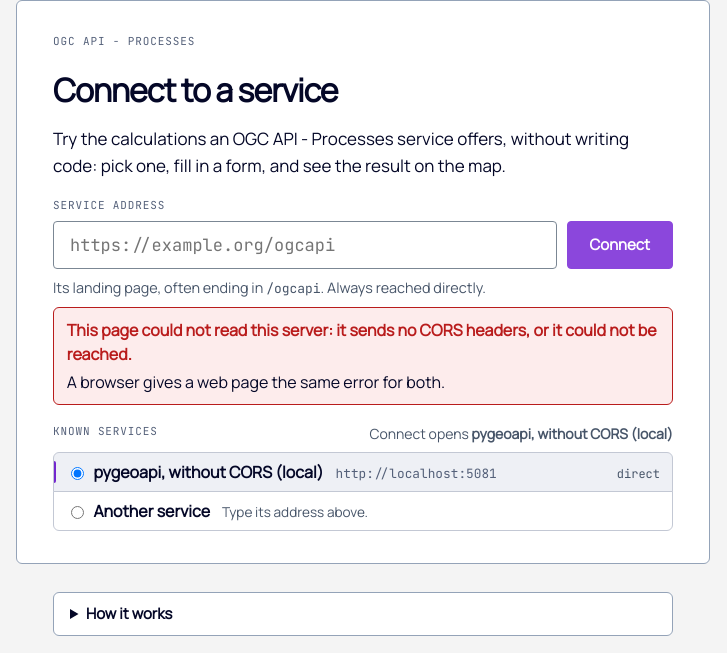
Scenario: puts the error aside when another service is chosen
This screenshot has width=727, height=653.
Click the radio button labelled "Another service Type its address above.".
click(78, 513)  # box x1=71 y1=506 x2=84 y2=519
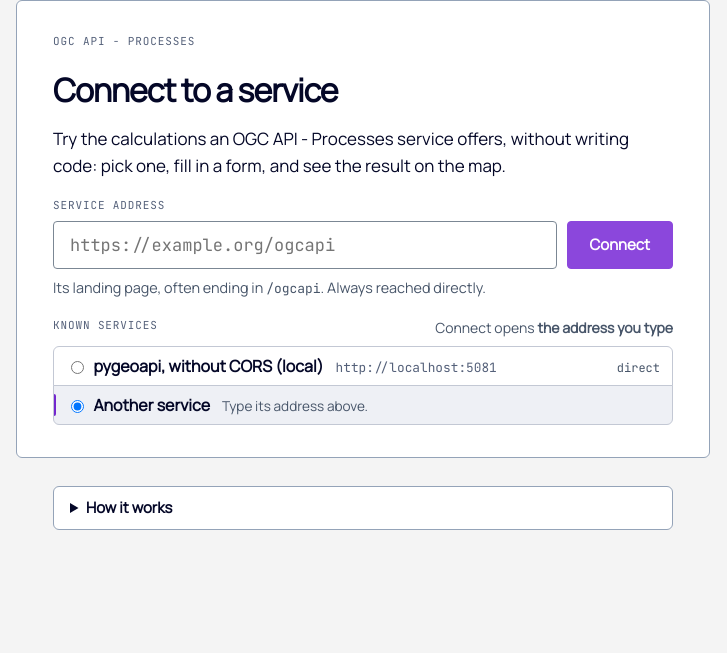
Now the message with class "error-box" is gone
